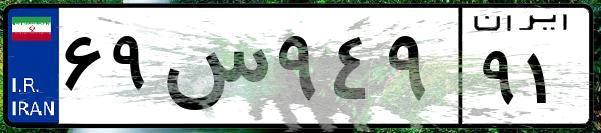1: (525, 38, 570, 115)
4: (330, 28, 385, 110)
6: (57, 26, 110, 100)
9: (270, 28, 330, 110), (385, 28, 445, 110), (475, 38, 525, 113), (110, 28, 158, 98)
س: (158, 20, 270, 120)
